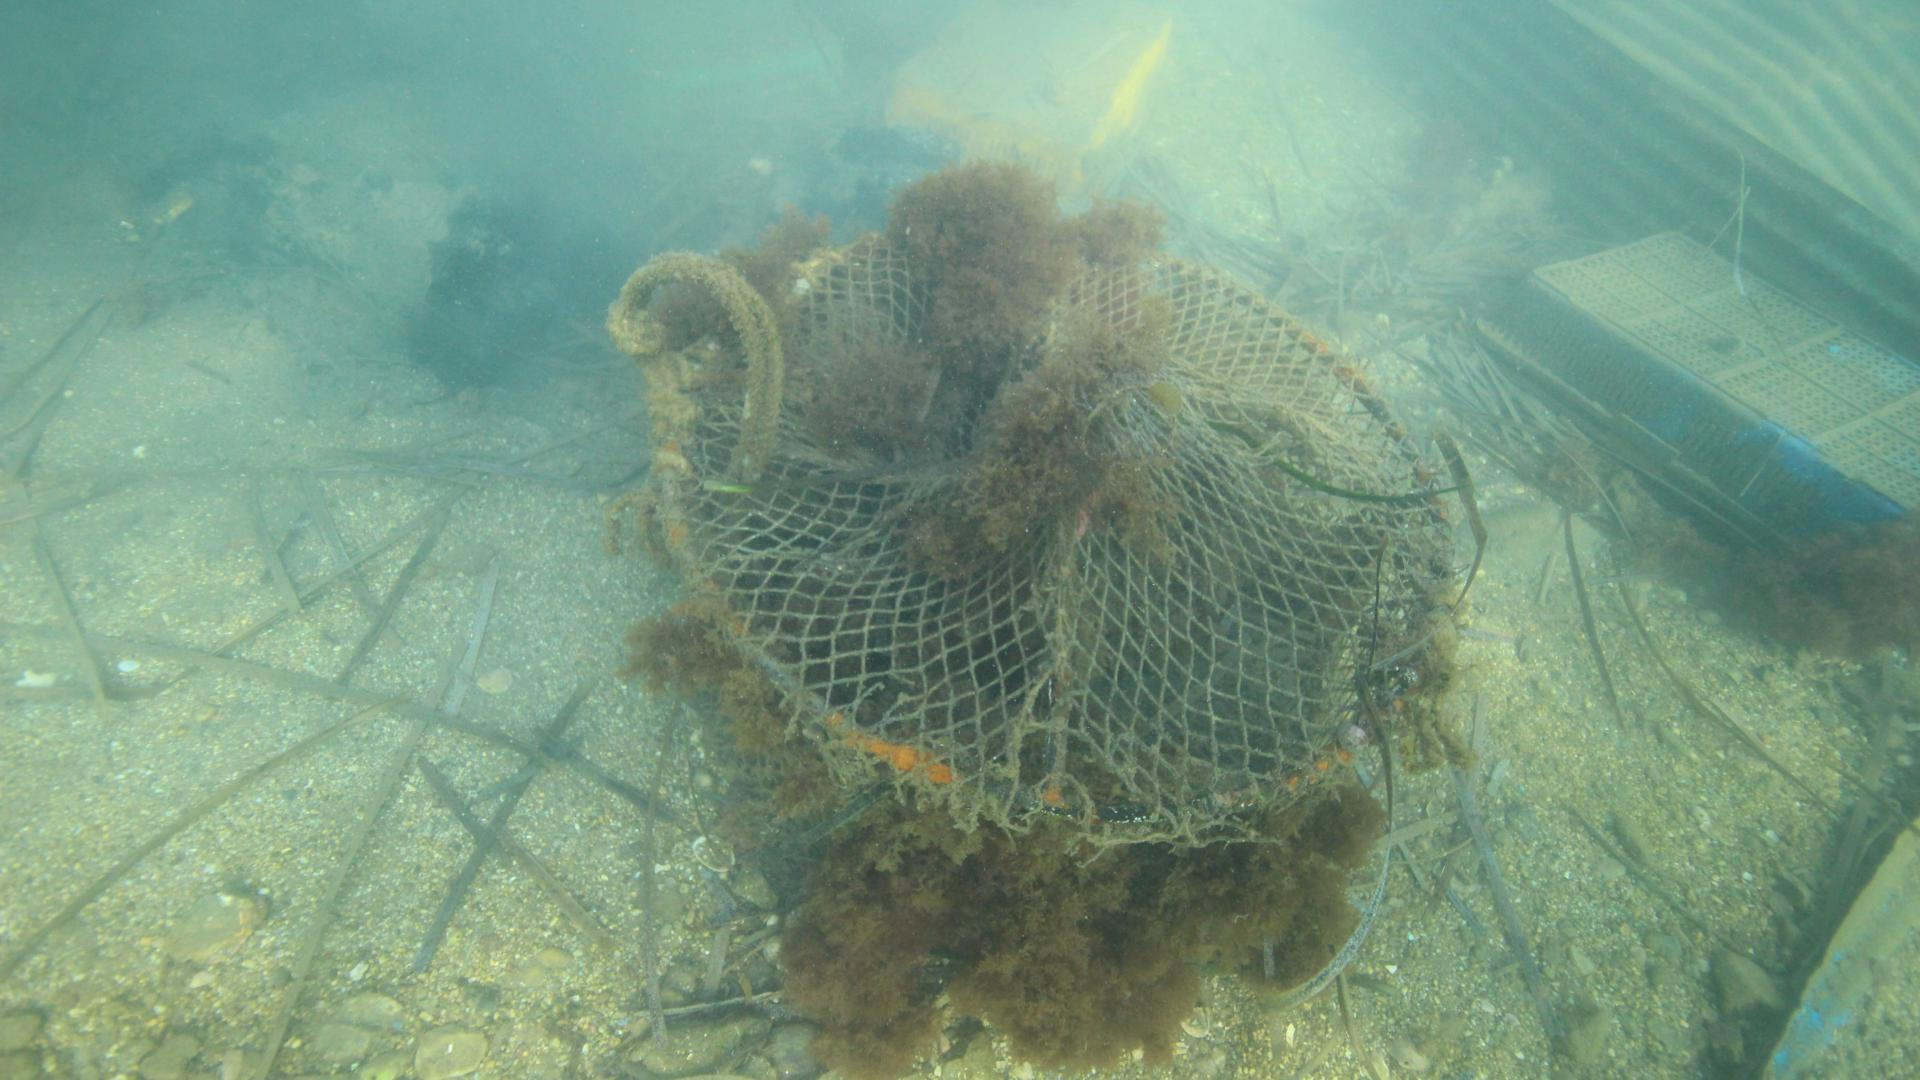bundle of ropes: (604, 251, 785, 483)
circular fish trap: (650, 223, 1455, 841)
